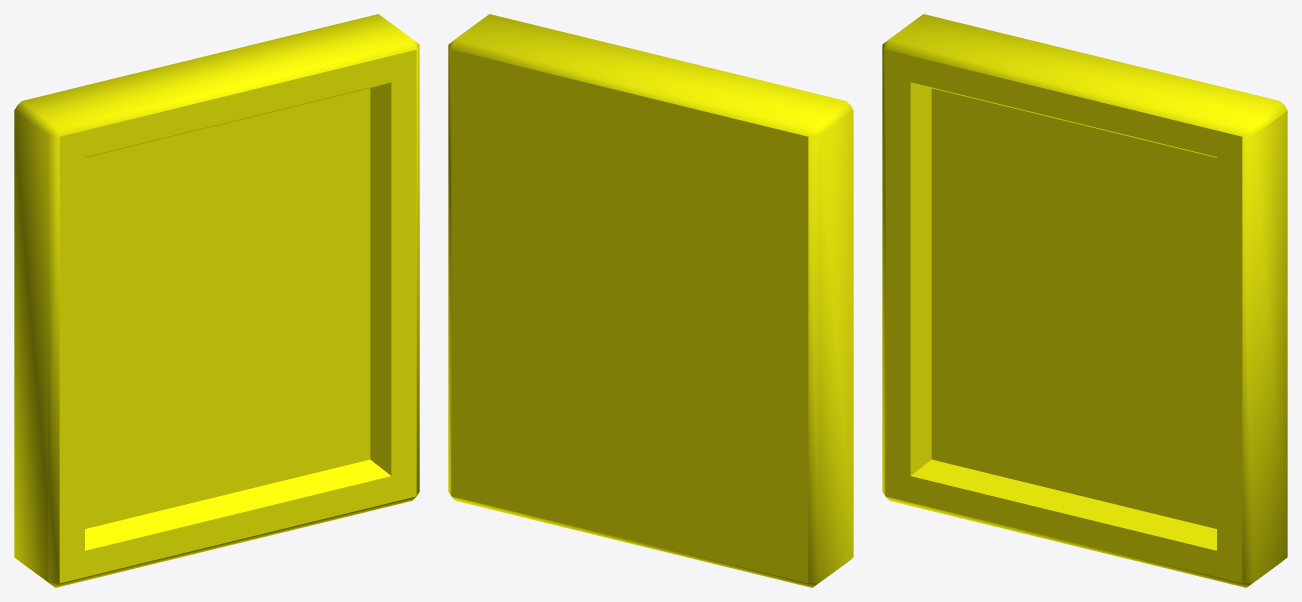
Rendered from kaykit-pictureframe-large-a.glb.
3 renders of one model, left to right at view 1: azimuth 30°, elevation 25°; view 2: azimuth 150°, elevation 25°; view 3: azimuth 330°, elevation 25°, orthographic.
Visible parts, largest first — view 1: pictureframe_large_A; view 2: pictureframe_large_A; view 3: pictureframe_large_A.
Part boxes in pixels (x1,y1,x2,y2): pictureframe_large_A: (14,14,419,587); pictureframe_large_A: (448,14,853,587); pictureframe_large_A: (882,14,1287,587).
Size of the model in its own units: 1.01 by 1.2 by 0.2.
